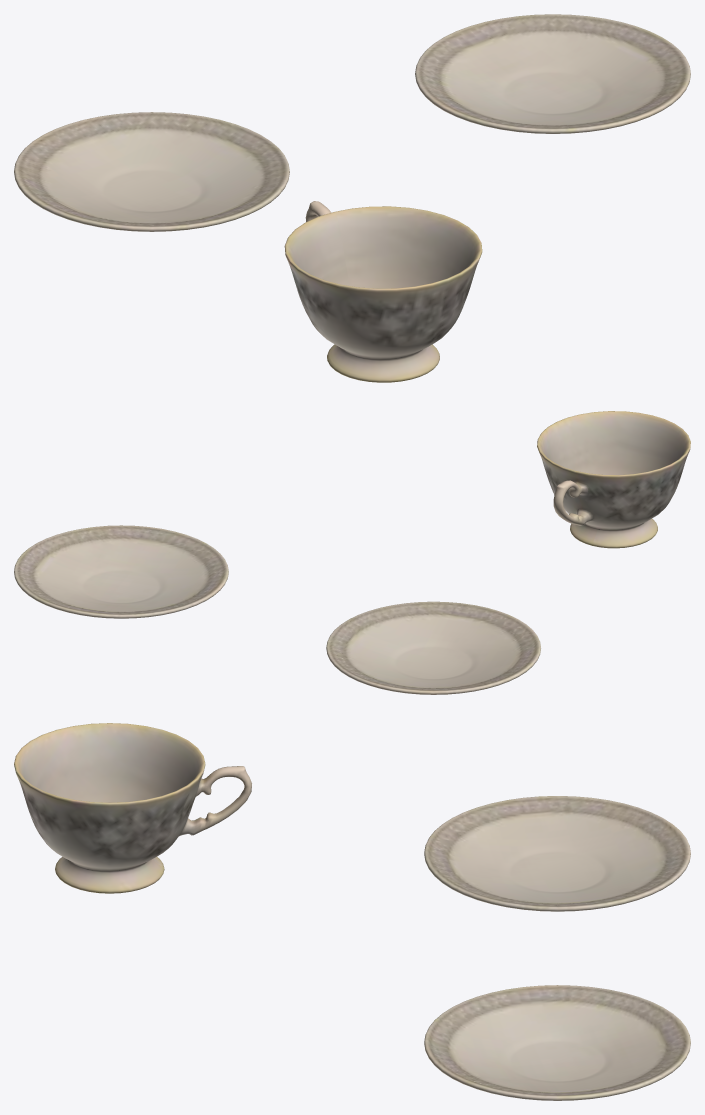
File: tea.glb
3 renders of one model, top to bottom at view 1: azimuth 30°, elevation 25°; view 2: azimuth 150°, elevation 25°; view 3: azimuth 270°, elevation 25°, orthographic. The views are drawn at different scales.
Visible parts, largest first — view 1: tea_set_01_cup_small_01, tea_set_01_saucer_circular_03, tea_set_01_saucer_circular_04; view 2: tea_set_01_cup_small_01, tea_set_01_saucer_circular_03, tea_set_01_saucer_circular_04; view 3: tea_set_01_cup_small_01, tea_set_01_saucer_circular_03, tea_set_01_saucer_circular_04.
Boxes of the visible parts, <box> form: tea_set_01_cup_small_01: <box>284,201,482,382</box>; tea_set_01_saucer_circular_03: <box>415,14,690,133</box>; tea_set_01_saucer_circular_04: <box>14,112,289,231</box>; tea_set_01_cup_small_01: <box>537,411,690,548</box>; tea_set_01_saucer_circular_03: <box>14,525,228,618</box>; tea_set_01_saucer_circular_04: <box>326,601,540,694</box>; tea_set_01_cup_small_01: <box>14,723,251,893</box>; tea_set_01_saucer_circular_03: <box>424,985,690,1100</box>; tea_set_01_saucer_circular_04: <box>424,796,690,911</box>.
Size of the model in its own units: 0.399 by 0.0704 by 0.3779.
Materials: 1 (1 with a texture image).
